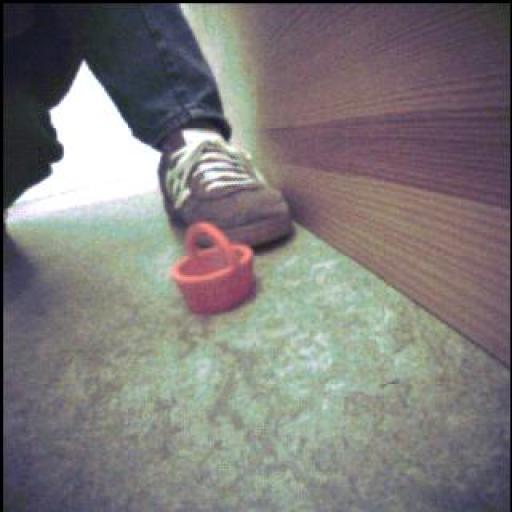Bucket: (173, 224, 256, 315)
